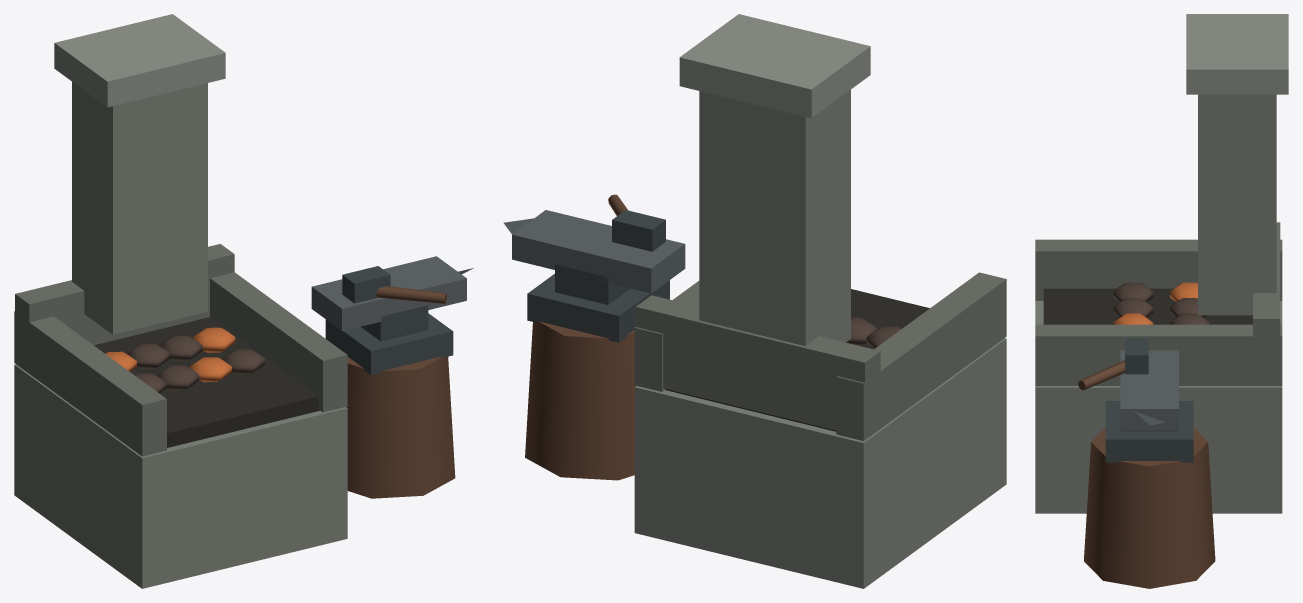
Rendered from Stations_Forge.glb.
3 views of the same model, side by side, from view 1: azimuth 30°, elevation 25°; view 2: azimuth 150°, elevation 25°; view 3: azimuth 270°, elevation 25° (orthographic). The views are drawn at different scales.
Visible parts, largest first — view 1: _MeshInstance3D_4239, _MeshInstance3D_4244, _MeshInstance3D_4254, _MeshInstance3D_4245, _MeshInstance3D_4241, _MeshInstance3D_4240, _MeshInstance3D_4242, _MeshInstance3D_4257, _MeshInstance3D_4243, _MeshInstance3D_4255, _MeshInstance3D_4256, _MeshInstance3D_4260 (+7 smaller); view 2: _MeshInstance3D_4239, _MeshInstance3D_4244, _MeshInstance3D_4243, _MeshInstance3D_4254, _MeshInstance3D_4245, _MeshInstance3D_4241, _MeshInstance3D_4257, _MeshInstance3D_4255, _MeshInstance3D_4240, _MeshInstance3D_4242, _MeshInstance3D_4256, _MeshInstance3D_4260; view 3: _MeshInstance3D_4239, _MeshInstance3D_4244, _MeshInstance3D_4254, _MeshInstance3D_4242, _MeshInstance3D_4245, _MeshInstance3D_4241, _MeshInstance3D_4257, _MeshInstance3D_4240, _MeshInstance3D_4255, _MeshInstance3D_4243, _MeshInstance3D_4260, _MeshInstance3D_4250 (+6 smaller).
Part boxes in pixels (<box>): _MeshInstance3D_4239: <box>14,364,347,588</box>; _MeshInstance3D_4244: <box>72,82,207,334</box>; _MeshInstance3D_4254: <box>346,356,455,498</box>; _MeshInstance3D_4245: <box>54,14,225,107</box>; _MeshInstance3D_4241: <box>14,311,166,456</box>; _MeshInstance3D_4240: <box>94,317,319,447</box>; _MeshInstance3D_4242: <box>210,272,347,412</box>; _MeshInstance3D_4257: <box>311,256,466,330</box>; _MeshInstance3D_4243: <box>15,244,234,370</box>; _MeshInstance3D_4255: <box>325,313,453,375</box>; _MeshInstance3D_4256: <box>361,305,428,341</box>; _MeshInstance3D_4260: <box>342,266,390,303</box>; _MeshInstance3D_4239: <box>634,338,1006,588</box>; _MeshInstance3D_4244: <box>699,90,850,345</box>; _MeshInstance3D_4243: <box>635,295,880,430</box>; _MeshInstance3D_4254: <box>525,321,636,480</box>; _MeshInstance3D_4245: <box>679,14,870,118</box>; _MeshInstance3D_4241: <box>836,272,1006,441</box>; _MeshInstance3D_4257: <box>512,210,685,293</box>; _MeshInstance3D_4255: <box>527,274,669,342</box>; _MeshInstance3D_4240: <box>665,289,929,431</box>; _MeshInstance3D_4242: <box>634,281,699,391</box>; _MeshInstance3D_4256: <box>555,264,630,304</box>; _MeshInstance3D_4260: <box>612,210,665,251</box>; _MeshInstance3D_4239: <box>1035,301,1282,513</box>; _MeshInstance3D_4244: <box>1198,94,1276,315</box>; _MeshInstance3D_4254: <box>1084,427,1215,588</box>; _MeshInstance3D_4242: <box>1035,324,1282,385</box>; _MeshInstance3D_4245: <box>1186,14,1288,94</box>; _MeshInstance3D_4241: <box>1035,239,1282,300</box>; _MeshInstance3D_4257: <box>1120,350,1178,430</box>; _MeshInstance3D_4240: <box>1043,288,1252,324</box>; _MeshInstance3D_4255: <box>1105,401,1193,462</box>; _MeshInstance3D_4243: <box>1253,222,1280,383</box>; _MeshInstance3D_4260: <box>1125,338,1148,374</box>; _MeshInstance3D_4250: <box>1113,282,1153,302</box>.
Size of the model in its own units: 2.39 by 2.56 by 1.39.
